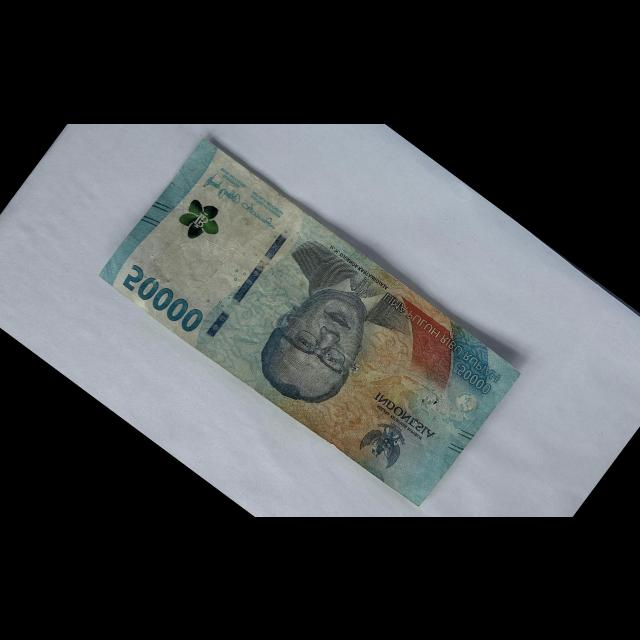Palsu-50k: (93, 131, 525, 514)
Tinta-Palsu-50k: (171, 192, 231, 253)
